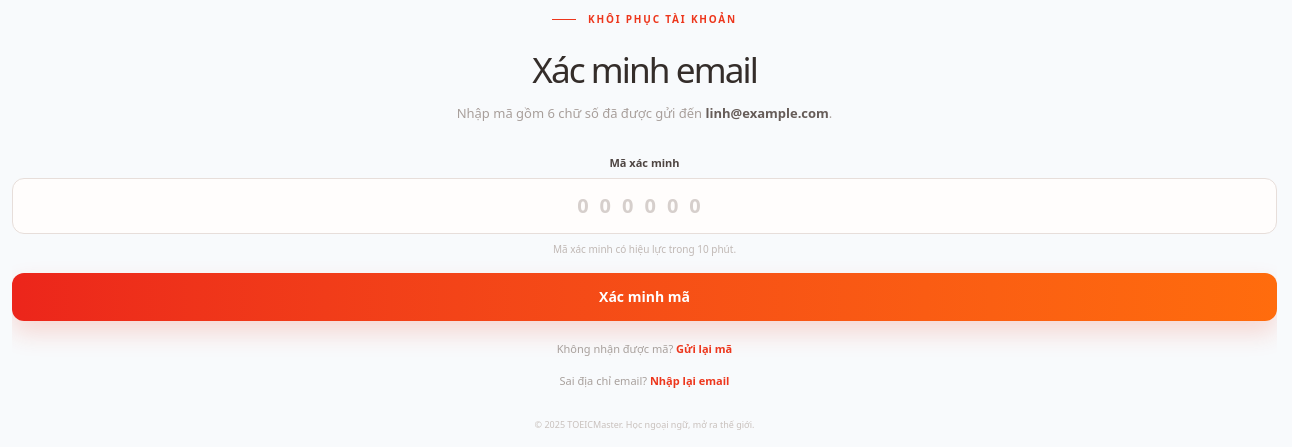
Scenario: VerificationPanel › requires a six-digit code before verification
The width and height of the screenshot is (1292, 447).
Click the button "Xác minh mã". click: [644, 296]
box: [12,272,1277,320]
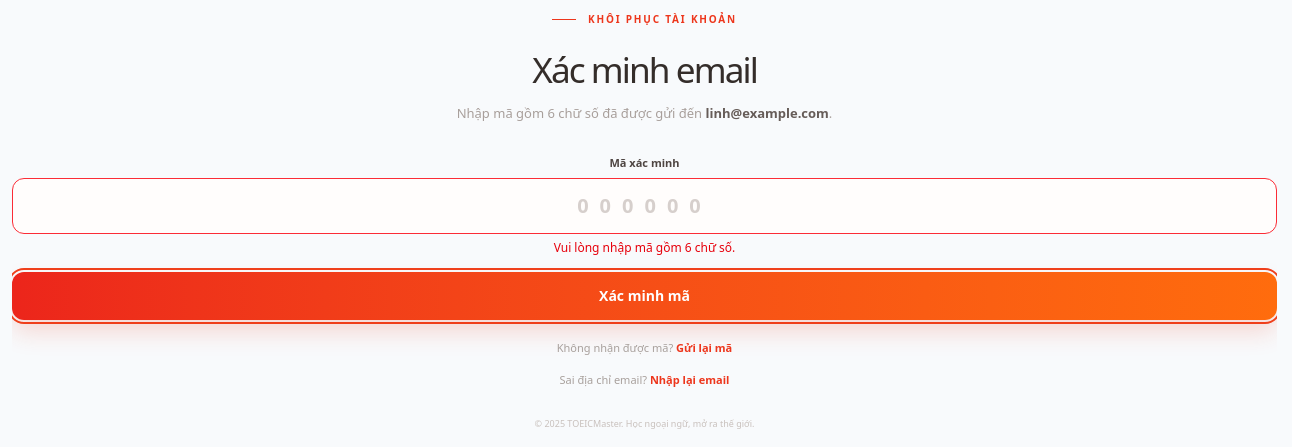
Now the text "Vui lòng nhập mã gồm 6 chữ số." is shown, box [554,238,735,256]
